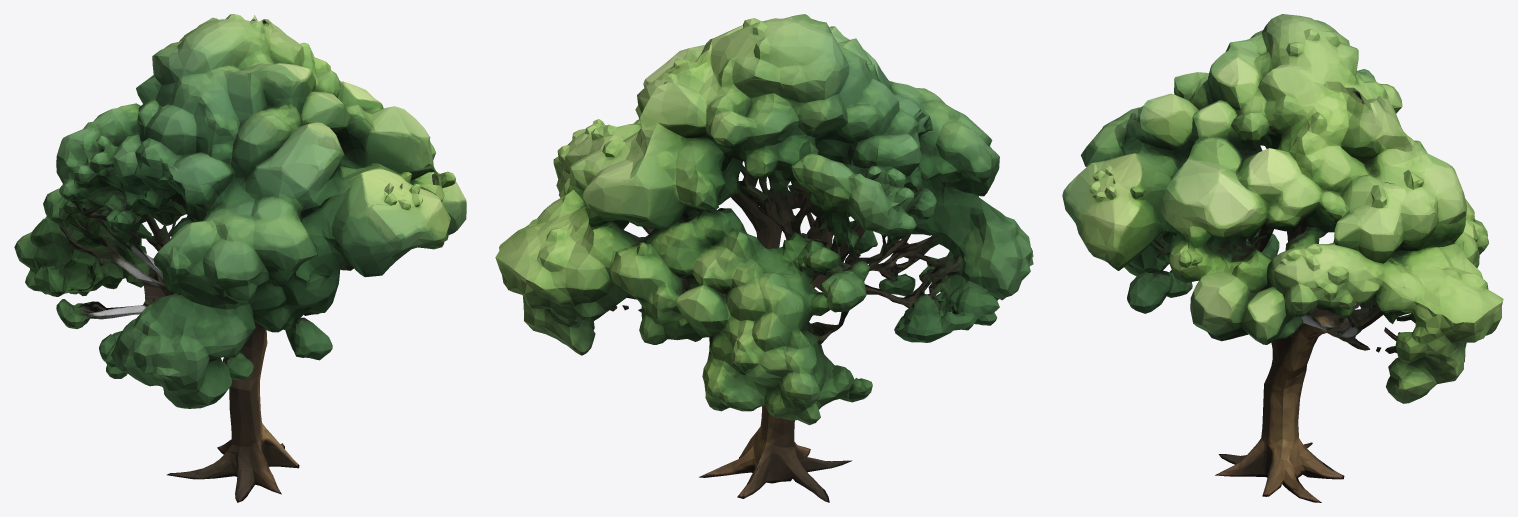
3 views of the same model, side by side, from view 1: azimuth 30°, elevation 25°; view 2: azimuth 150°, elevation 25°; view 3: azimuth 270°, elevation 25° (orthographic). The views are drawn at different scales.
Visible parts, largest first — view 1: world; view 2: world; view 3: world.
Boxes of the visible parts, x1=… form: world: x1=14, y1=14, x2=466, y2=502; world: x1=495, y1=14, x2=1033, y2=502; world: x1=1062, y1=14, x2=1503, y2=502.
Size of the model in its own units: 0.7676 by 0.8637 by 0.772.
Materials: 1 (1 with a texture image).
